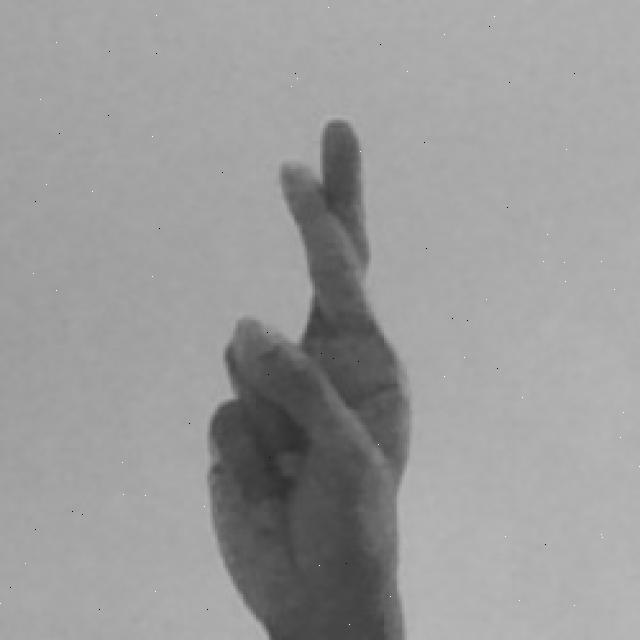R: (202, 112, 419, 640)
